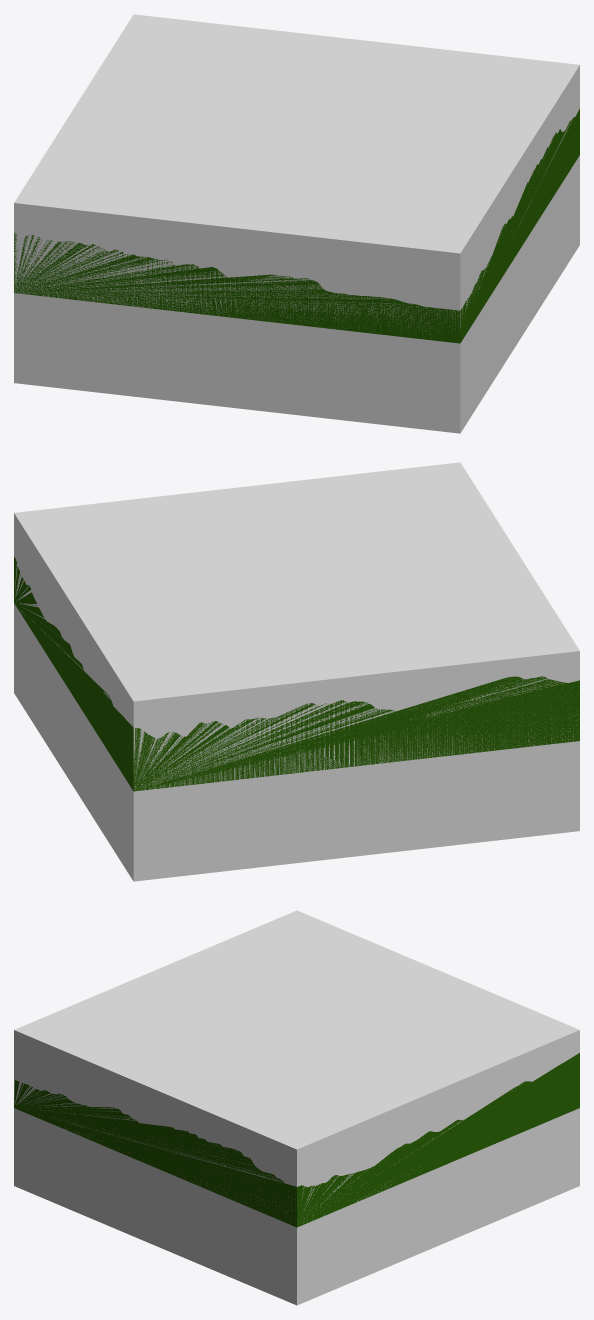
3 renders of one model, top to bottom at view 1: azimuth 30°, elevation 25°; view 2: azimuth 150°, elevation 25°; view 3: azimuth 270°, elevation 25°, orthographic. The views are drawn at different scales.
Parts seen in each view (by area): view 1: Cube, 10m_-77.03_38.88_tile_1_1, Cube.001; view 2: Cube, Cube.001, 10m_-77.03_38.88_tile_1_1; view 3: Cube, 10m_-77.03_38.88_tile_1_1, Cube.001.
Boxes of the visible parts, x1,y1,x2,y2 form: Cube: (14, 14, 579, 433); 10m_-77.03_38.88_tile_1_1: (14, 109, 579, 343); Cube.001: (41, 17, 576, 250); Cube: (14, 462, 579, 881); Cube.001: (17, 463, 553, 699); 10m_-77.03_38.88_tile_1_1: (14, 557, 579, 791); Cube: (14, 910, 579, 1305); 10m_-77.03_38.88_tile_1_1: (14, 1053, 579, 1227); Cube.001: (151, 912, 574, 1147).
Bounding box in the file's own units: 9299 × 2828 × 9299.
